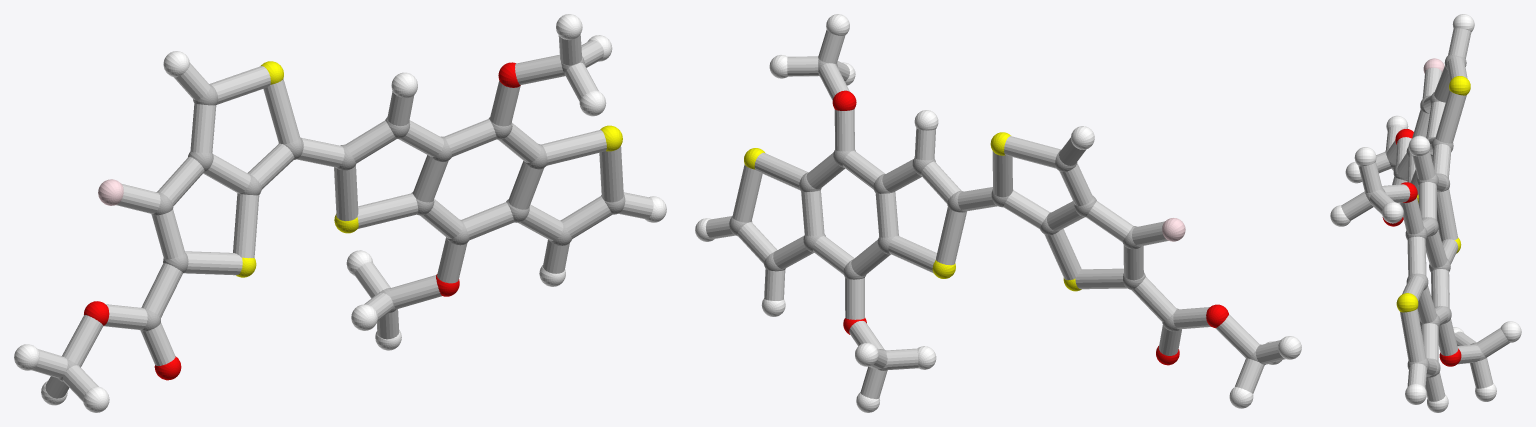
The model's file is color.glb.
3 views of the same model, side by side, from view 1: azimuth 30°, elevation 25°; view 2: azimuth 150°, elevation 25°; view 3: azimuth 270°, elevation 25° (orthographic). The views are drawn at different scales.
Visible parts, largest first — view 1: grp15205, grp8689, grp1, grp13395, grp7241; view 2: grp15205, grp8689, grp1, grp13395, grp7241; view 3: grp15205, grp8689, grp1, grp7241, grp13395, grp14843.
Part boxes in pixels (x1,y1,x2,y2): grp15205: (31, 34, 653, 401); grp8689: (14, 14, 666, 412); grp1: (57, 56, 625, 381); grp13395: (84, 62, 520, 380); grp7241: (236, 61, 622, 277); grp15205: (705, 30, 1285, 399); grp8689: (695, 14, 1301, 412); grp1: (729, 59, 1265, 370); grp13395: (832, 90, 1228, 365); grp7241: (744, 132, 1081, 291); grp15205: (1341, 28, 1509, 401); grp8689: (1330, 14, 1521, 412); grp1: (1365, 55, 1485, 377); grp7241: (1396, 76, 1470, 312); grp13395: (1382, 129, 1461, 366); grp14843: (1423, 58, 1444, 73).
Bounding box in the file's own units: 17.17 × 8.99 × 5.26.
